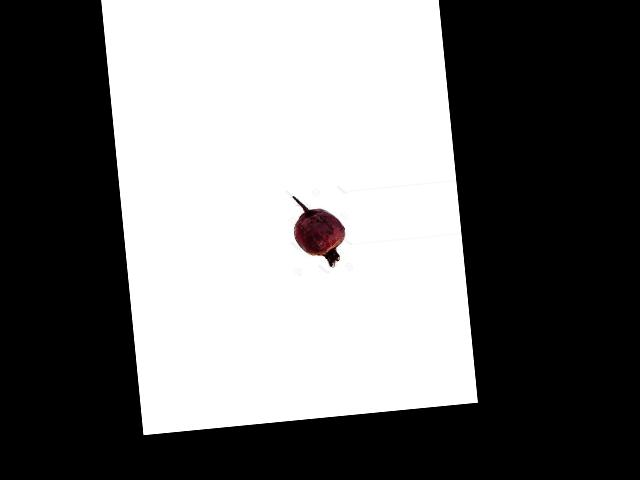beet: (290, 192, 347, 270)
